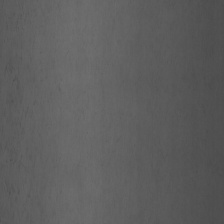silk_spot: (3, 34, 43, 192)
